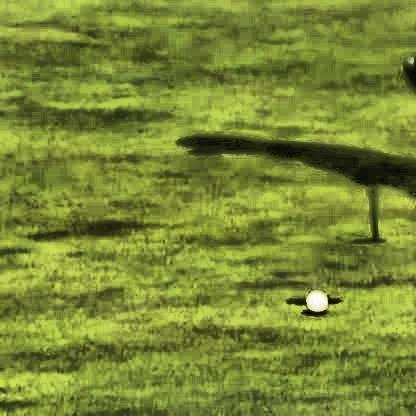golfball: (301, 289, 326, 313)
